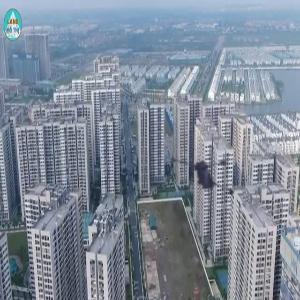drone: (169, 129, 259, 219)
